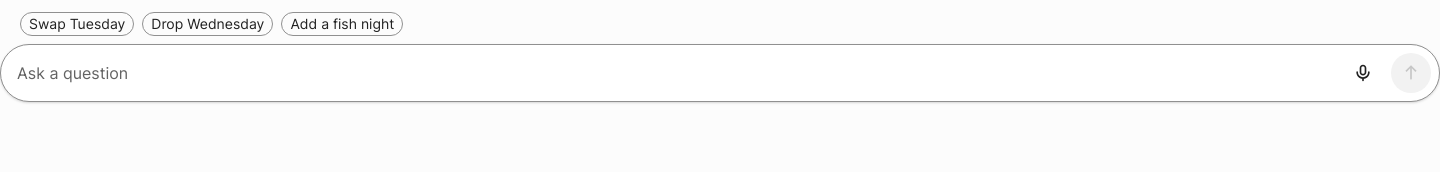
Test: AgentInput › Suggestions (decision 0046) › fills the field and focuses it with the caret at the end, without sending
What coordinates should you click on to do the following:
click the button "Drop Wednesday"
I would click on:
 (208, 24)
Its box is [142,12,273,36].
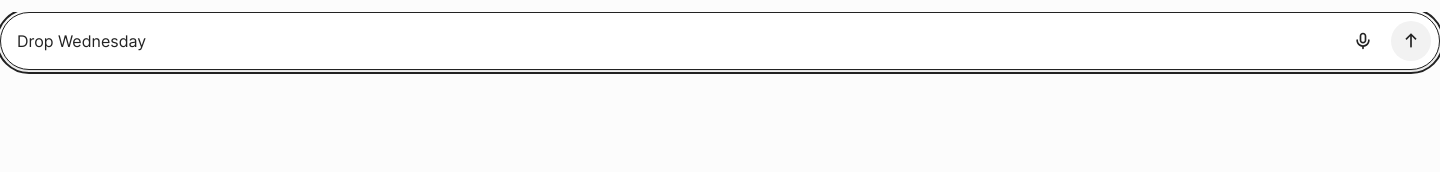
Check: the text box named "agent input" holds "Drop Wednesday", box [17,17,1335,65]
